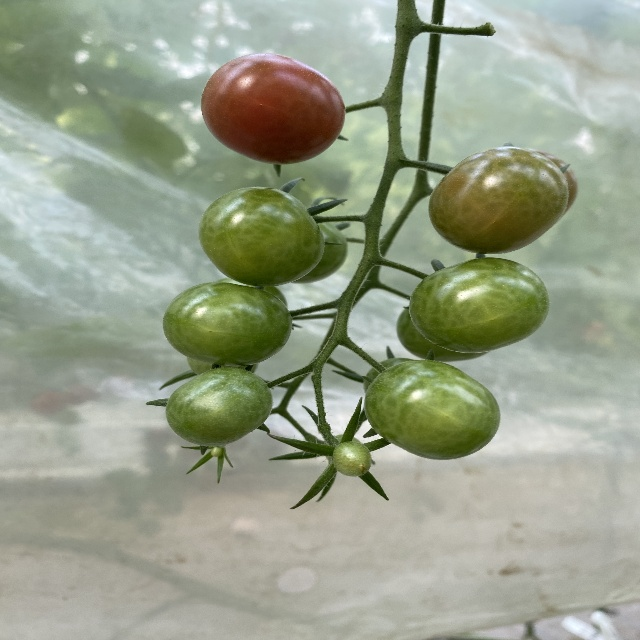l_fully_ripened: (200, 53, 347, 166)
l_green: (428, 146, 568, 255), (365, 359, 500, 460), (409, 259, 551, 352), (198, 187, 325, 286), (161, 282, 293, 367), (165, 367, 273, 447), (395, 305, 490, 362), (288, 217, 349, 284), (536, 151, 578, 213), (364, 357, 417, 394), (331, 442, 372, 476)
